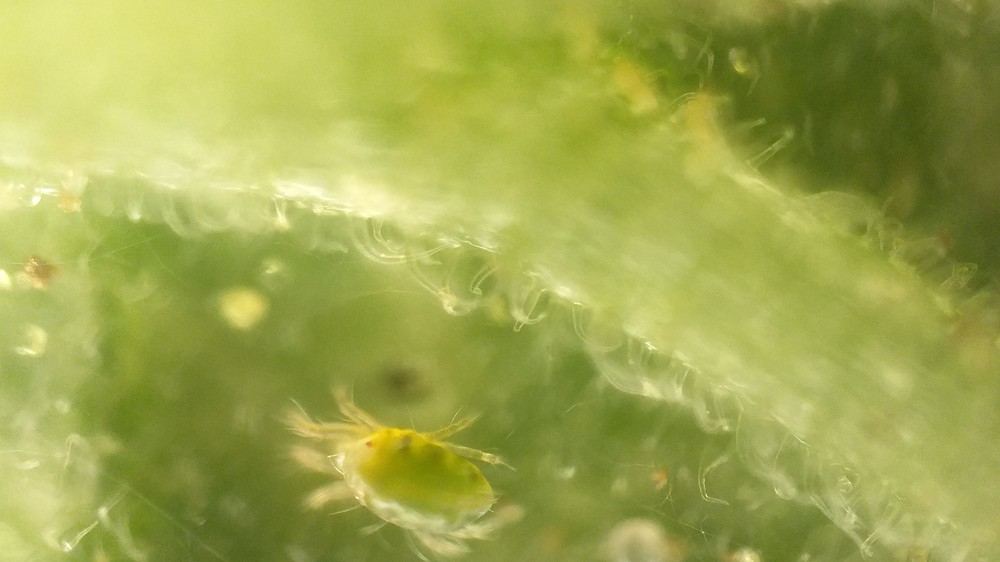Aracnido Rojo: (268, 379, 558, 556)
